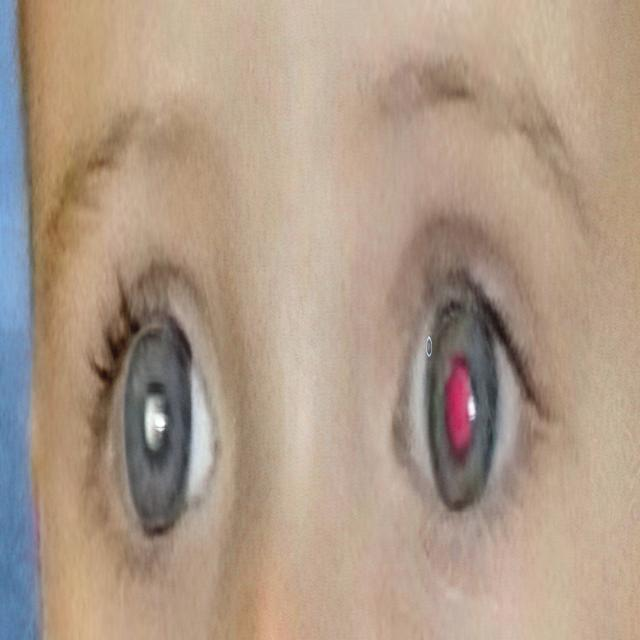reflexo-alterado: (84, 287, 230, 569)
reflexo-normal: (374, 176, 564, 570)
